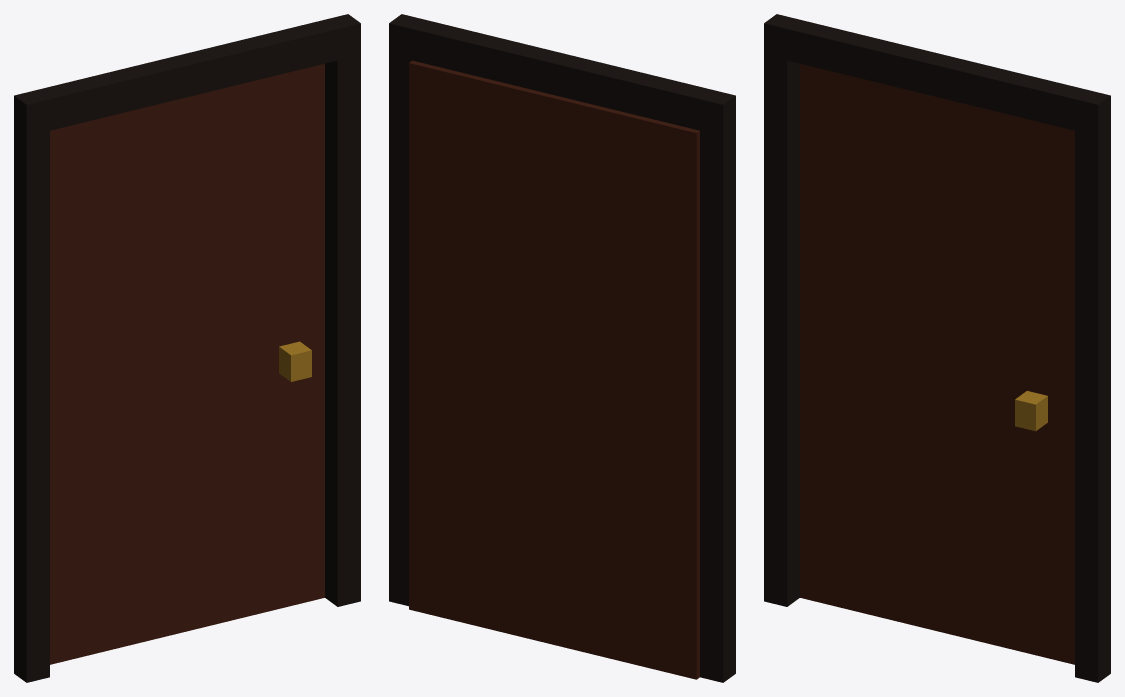
File: door.obj
The picture shows the model from 3 angles, left to right: view 1: azimuth 30°, elevation 25°; view 2: azimuth 150°, elevation 25°; view 3: azimuth 330°, elevation 25°; orthographic projection.
Parts seen in each view (by area): view 1: building_door; view 2: building_door; view 3: building_door.
Boxes of the visible parts, left/top/right/bottom form: building_door: left=14, top=14, right=360, bottom=682; building_door: left=389, top=14, right=735, bottom=682; building_door: left=764, top=14, right=1110, bottom=682.
Bounding box in the file's own units: 1.44 × 2.38 × 0.17.
